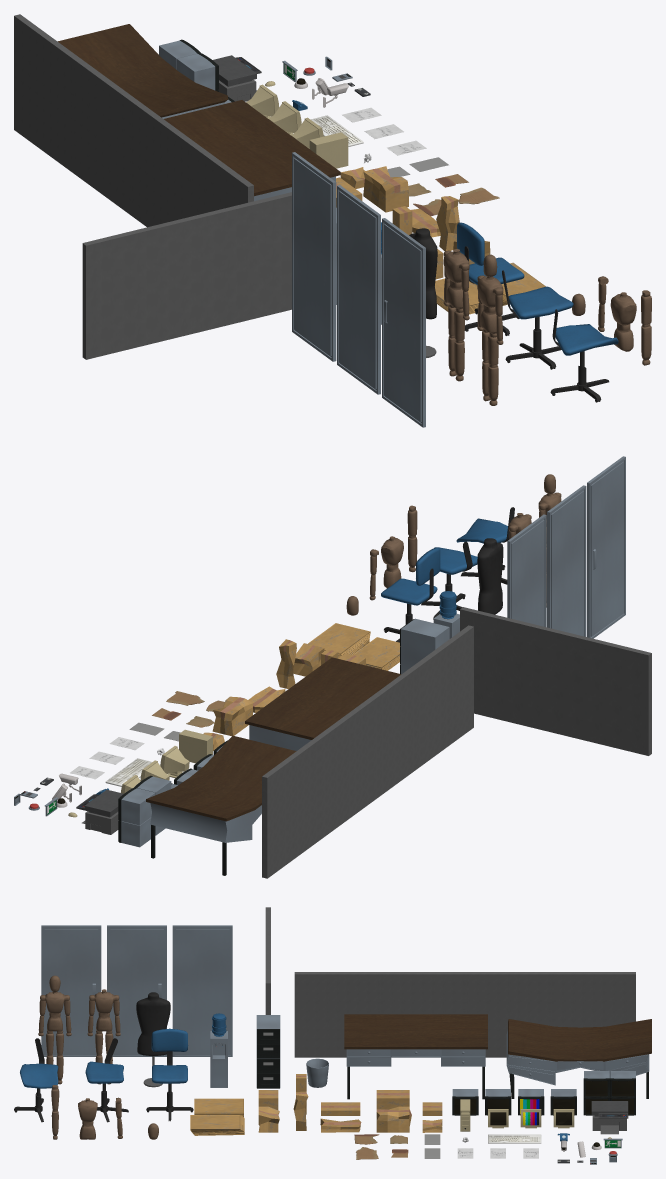
Rendered from Backrooms_Vol2_1k.obj.
3 renders of one model, top to bottom at view 1: azimuth 30°, elevation 25°; view 2: azimuth 150°, elevation 25°; view 3: azimuth 270°, elevation 25°, orthographic. The views are drawn at different scales.
Visible parts, largest first — view 1: Vertical_Office_Partition, Horizontal_Office_Partition, Door_Without_Handle, Door, Door_Single_Handle, Office_Table, Broken_Office_Table, Standing_Mannequin, Headless_Standing_Mannequin, Broken_Office_Chair_1, Broken_Office_Chair_2, Office_Chair (+12 smaller); view 2: Horizontal_Office_Partition, Vertical_Office_Partition, Broken_Office_Table, Office_Table, Door, Door_Single_Handle, Door_Without_Handle, Quadro_CCTV_Monitor, Office_Chair, Half_Mannequin, Filing_Cabinet, Printer (+13 smaller); view 3: Horizontal_Office_Partition, Broken_Office_Table, Office_Table, Door_Without_Handle, Door, Door_Single_Handle, Office_Chair, Standing_Mannequin, Quadro_CCTV_Monitor, Half_Mannequin, Headless_Standing_Mannequin, Broken_Office_Chair_2 (+24 smaller).
Part boxes in pixels (x1=…): Vertical_Office_Partition: x1=82, y1=192, x2=291, y2=359; Horizontal_Office_Partition: x1=14, y1=14, x2=253, y2=227; Door_Without_Handle: x1=292, y1=152, x2=336, y2=361; Door: x1=382, y1=218, x2=425, y2=427; Door_Single_Handle: x1=337, y1=185, x2=380, y2=394; Office_Table: x1=164, y1=100, x2=340, y2=201; Broken_Office_Table: x1=58, y1=24, x2=228, y2=118; Standing_Mannequin: x1=477, y1=254, x2=503, y2=405; Headless_Standing_Mannequin: x1=443, y1=249, x2=469, y2=381; Broken_Office_Chair_1: x1=502, y1=270, x2=573, y2=369; Broken_Office_Chair_2: x1=550, y1=309, x2=618, y2=402; Office_Chair: x1=457, y1=222, x2=524, y2=335; Horizontal_Office_Partition: x1=262, y1=625, x2=473, y2=878; Vertical_Office_Partition: x1=460, y1=607, x2=651, y2=755; Broken_Office_Table: x1=146, y1=735, x2=296, y2=875; Office_Table: x1=245, y1=657, x2=400, y2=750; Door: x1=587, y1=456, x2=625, y2=638; Door_Single_Handle: x1=547, y1=485, x2=586, y2=636; Door_Without_Handle: x1=507, y1=514, x2=546, y2=627; Quadro_CCTV_Monitor: x1=118, y1=775, x2=171, y2=847; Office_Chair: x1=381, y1=547, x2=440, y2=642; Half_Mannequin: x1=477, y1=538, x2=503, y2=614; Filing_Cabinet: x1=401, y1=618, x2=449, y2=674; Printer: x1=76, y1=789, x2=123, y2=834; Horizontal_Office_Partition: x1=294, y1=972, x2=635, y2=1057; Broken_Office_Table: x1=506, y1=1019, x2=651, y2=1098; Office_Table: x1=344, y1=1014, x2=487, y2=1099; Door_Without_Handle: x1=172, y1=925, x2=232, y2=1056; Door: x1=41, y1=925, x2=101, y2=1056; Door_Single_Handle: x1=107, y1=925, x2=166, y2=1056; Office_Chair: x1=146, y1=1028, x2=193, y2=1121; Standing_Mannequin: x1=38, y1=975, x2=71, y2=1084; Quadro_CCTV_Monitor: x1=583, y1=1071, x2=635, y2=1115; Half_Mannequin: x1=136, y1=992, x2=170, y2=1087; Headless_Standing_Mannequin: x1=87, y1=989, x2=120, y2=1084; Broken_Office_Chair_2: x1=14, y1=1038, x2=58, y2=1122.
Size of the model in its own units: 6.27 by 2.26 by 9.72.
Materials: 2 (2 with a texture image).
